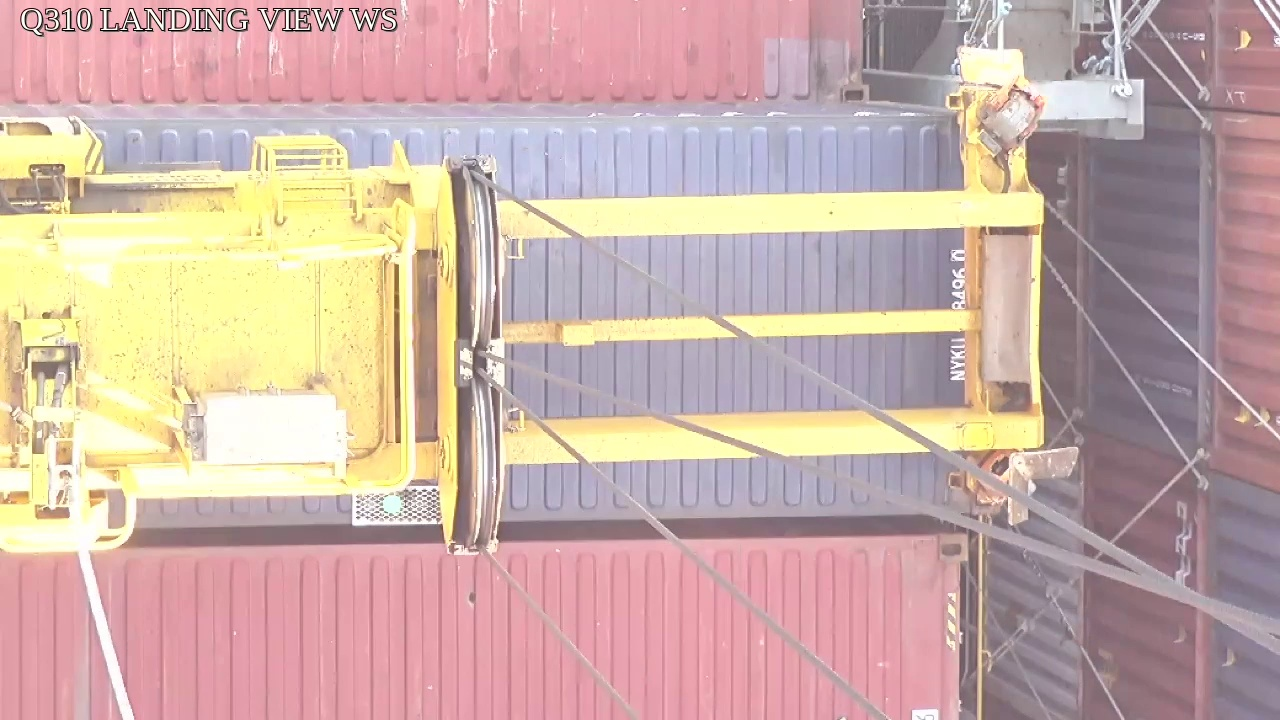right: (430, 156, 507, 556)
